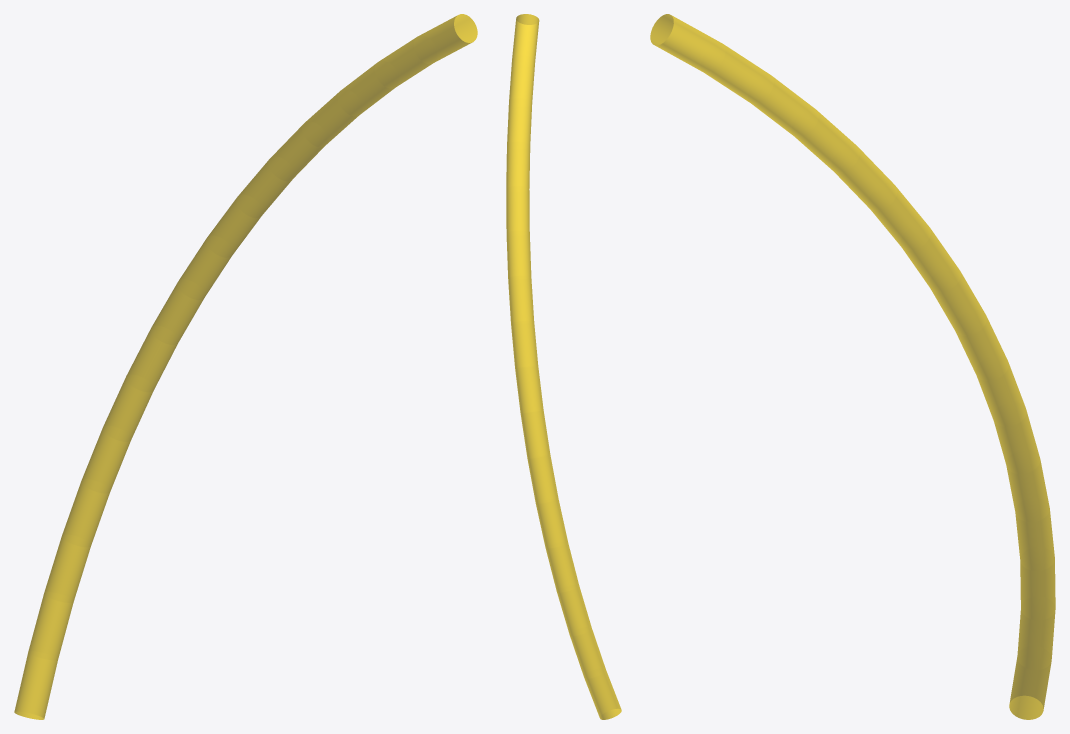
The model's file is Event_402970704_track_25.fbx.
3 views of the same model, side by side, from view 1: azimuth 30°, elevation 25°; view 2: azimuth 150°, elevation 25°; view 3: azimuth 270°, elevation 25° (orthographic). The views are drawn at different scales.
Visible parts, largest first — view 1: Model; view 2: Model; view 3: Model.
Part boxes in pixels (bbox=[...]): Model: bbox=[14, 14, 477, 719]; Model: bbox=[506, 14, 621, 719]; Model: bbox=[650, 14, 1055, 719].
Bounding box in the file's own units: 0.4445 × 1.07 × 0.4665.
